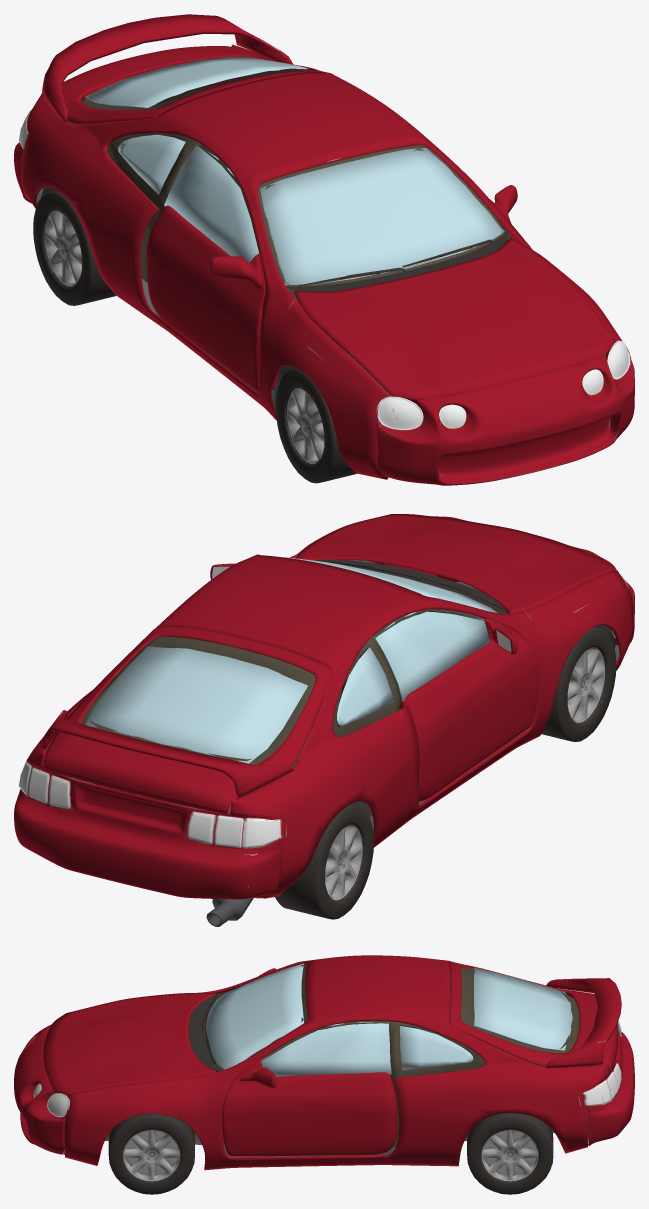
The model's file is Toyota_01.fbx.
3 renders of one model, top to bottom at view 1: azimuth 30°, elevation 25°; view 2: azimuth 150°, elevation 25°; view 3: azimuth 270°, elevation 25°, orthographic. The views are drawn at different scales.
Parts seen in each view (by area): view 1: CelicaBody1.001, CelicaWindows, ToyotaDoorRight, CelicaBody1.002, ToyotaWindowRight, TireFrontLeft.002, TireFrontLeft.003; view 2: CelicaBody1.001, CelicaWindows, ToyotaDoorRight, TireFrontLeft.002, CelicaBody1.002, ToyotaWindowRight, TireFrontLeft.003; view 3: CelicaBody1.001, CelicaWindows, ToyotaDoorLeft, TireFrontLeft.001, TireFrontLeft, ToyotaWindowLeft, CelicaBody1.002.
Boxes of the visible parts, bbox=[...] form: CelicaBody1.001: bbox=[14, 14, 634, 485]; CelicaWindows: bbox=[85, 57, 504, 285]; ToyotaDoorRight: bbox=[146, 205, 280, 391]; CelicaBody1.002: bbox=[68, 57, 510, 369]; ToyotaWindowRight: bbox=[164, 144, 259, 262]; TireFrontLeft.002: bbox=[33, 190, 116, 305]; TireFrontLeft.003: bbox=[275, 368, 356, 483]; CelicaBody1.001: bbox=[14, 514, 634, 926]; CelicaWindows: bbox=[85, 557, 496, 763]; ToyotaDoorRight: bbox=[400, 618, 538, 801]; TireFrontLeft.002: bbox=[275, 804, 373, 919]; CelicaBody1.002: bbox=[81, 577, 498, 816]; ToyotaWindowRight: bbox=[373, 611, 489, 701]; TireFrontLeft.003: bbox=[541, 627, 616, 741]; CelicaBody1.001: bbox=[14, 955, 634, 1170]; CelicaWindows: bbox=[206, 963, 572, 1069]; ToyotaDoorLeft: bbox=[222, 1060, 397, 1156]; TireFrontLeft.001: bbox=[467, 1113, 553, 1194]; TireFrontLeft: bbox=[108, 1113, 194, 1194]; ToyotaWindowLeft: bbox=[261, 1022, 391, 1076]; CelicaBody1.002: bbox=[204, 963, 579, 1146].
Size of the model in its own units: 99.23 by 68.02 by 236.
